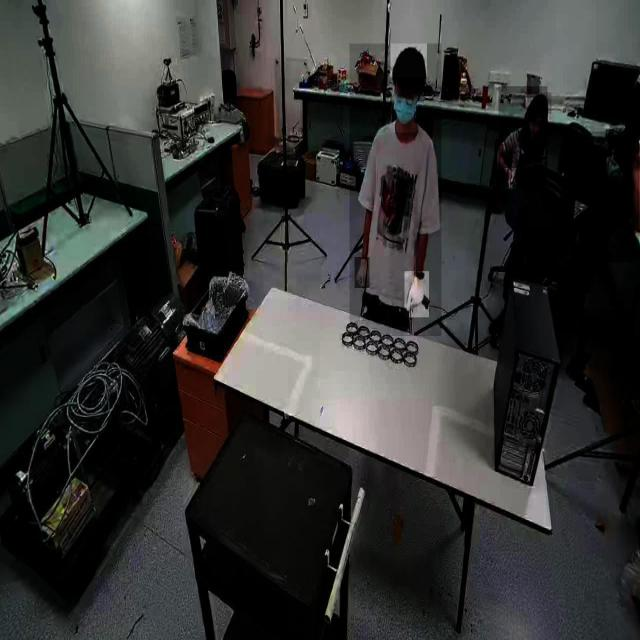face_mask: (394, 82, 418, 132), (608, 138, 626, 189)
face_nomask: (528, 118, 541, 138)
hand_glove: (404, 271, 430, 318), (354, 257, 370, 289)
hand_noglove: (505, 168, 517, 190)
head_nohelmet: (390, 44, 428, 78), (610, 124, 640, 154), (526, 92, 552, 114)
person: (350, 43, 442, 337), (572, 132, 640, 263), (498, 86, 548, 187)
